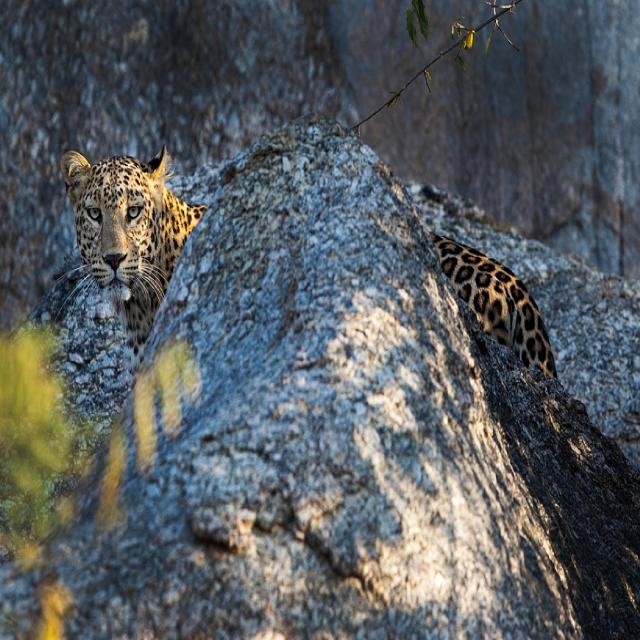Leopard: (61, 153, 190, 338), (430, 235, 560, 378)
